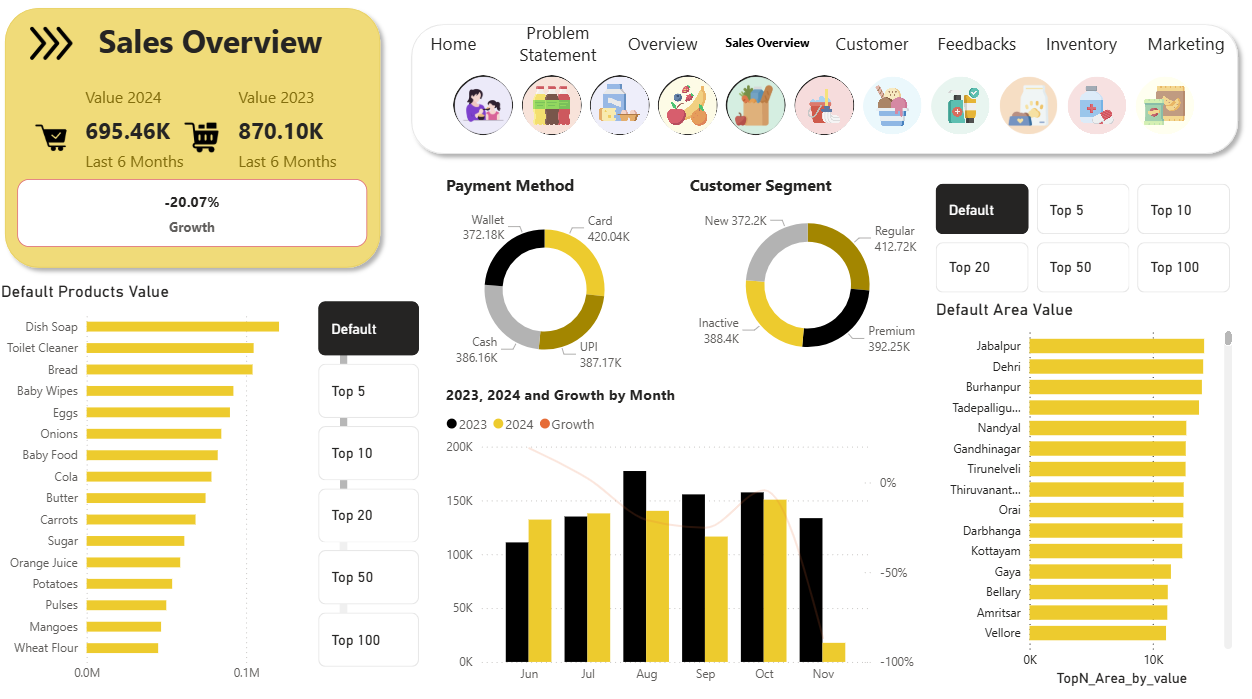

The page's visual inventory and layout, read from the dashboard file:
{"tool":"powerbi","page":{"name":"Sales Overview ","canvas":[1280,720],"ordinal":3},"visuals":[{"type":"shape","box":[411.4,21.7,855.4,149.6],"z":0},{"type":"shape","box":[0,4.8,398.1,281.1],"z":1000},{"type":"cardVisual","fields":{"Data":["Sales_Measures.Current_Year_value","Sales_Measures.Previous_Year_value"]},"box":[73.4,68.4,313.9,134.2],"z":2000},{"type":"advancedSlicerVisual","fields":{"Values":["MasterTable.category"]},"box":[437.9,77.2,802.3,71.2],"z":3000},{"type":"card","fields":{"Values":["Sales_Measures.CY_PY_Growth%"]},"box":[21.7,187,354.7,68.8],"z":4000},{"type":"donutChart","title":"Payment Method","fields":{"Y":["Sales_Measures.Period_Value"],"Category":["MasterTable.payment_method"]},"box":[450.6,182.3,210.1,212.7],"z":5000},{"type":"donutChart","title":"Customer Segment","fields":{"Y":["Sales_Measures.Period_Value"],"Category":["MasterTable.customer_segment"]},"box":[697.5,182.3,249.4,203.8],"z":6000},{"type":"lineClusteredColumnComboChart","fields":{"Category":["Calendar.Month"],"Y2":["Sales_Measures.CY_PY_Growth%"],"Y":["Sales_Measures.Previous_Year_value","Sales_Measures.Current_Year_value"]},"box":[450.6,394.9,484.8,311.4],"z":7000},{"type":"advancedSlicerVisual","fields":{"Values":["Rank_Table.Option"]},"box":[946.8,187.3,310.1,121.5],"z":8000},{"type":"barChart","fields":{"Category":["MasterTable.area"],"Y":["Sales_Measures.TopN_Area_by_value"]},"box":[946.8,308.9,310.1,397.5],"z":9000},{"type":"clusteredBarChart","fields":{"Category":["MasterTable.product_name"],"Y":["Sales_Measures.TopN_Product_by_value"]},"box":[0,291.2,361.2,415],"z":10000},{"type":"advancedSlicerVisual","fields":{"Values":["Rank_Table.Option"]},"box":[320.9,306.4,112.2,383.6],"z":11000},{"type":"textbox","box":[98.7,20.3,262,57],"z":12000},{"type":"image","box":[186.1,117.7,44.3,55.7],"z":13000},{"type":"image","box":[30.4,108.9,53.2,73.4],"z":14000},{"type":"pageNavigator","box":[415.2,16.5,841.8,65.8],"z":15000},{"type":"image","box":[15.2,13.9,82.3,72.2],"z":17000}]}

Visuals, with their boxes in screenshot pixels (x1, y1, x2, y2), scaled from the page's 1280x720 canvas onto the 1252x699 screenshot:
shape: l=402, t=21, r=1239, b=166
shape: l=0, t=5, r=389, b=278
cardVisual - Sales_Measures.Current_Year_value x Sales_Measures.Previous_Year_value: l=72, t=66, r=379, b=197
advancedSlicerVisual - MasterTable.category: l=428, t=75, r=1213, b=144
card - Sales_Measures.CY_PY_Growth%: l=21, t=182, r=368, b=248
"Payment Method" donutChart: l=441, t=177, r=646, b=383
"Customer Segment" donutChart: l=682, t=177, r=926, b=375
lineClusteredColumnComboChart - Calendar.Month x Sales_Measures.CY_PY_Growth%: l=441, t=383, r=915, b=686
advancedSlicerVisual - Rank_Table.Option: l=926, t=182, r=1229, b=300
barChart - MasterTable.area x Sales_Measures.TopN_Area_by_value: l=926, t=300, r=1229, b=686
clusteredBarChart - MasterTable.product_name x Sales_Measures.TopN_Product_by_value: l=0, t=283, r=353, b=686
advancedSlicerVisual - Rank_Table.Option: l=314, t=297, r=424, b=670
textbox: l=97, t=20, r=353, b=75
image: l=182, t=114, r=225, b=168
image: l=30, t=106, r=82, b=177
pageNavigator: l=406, t=16, r=1230, b=80
image: l=15, t=13, r=95, b=84
